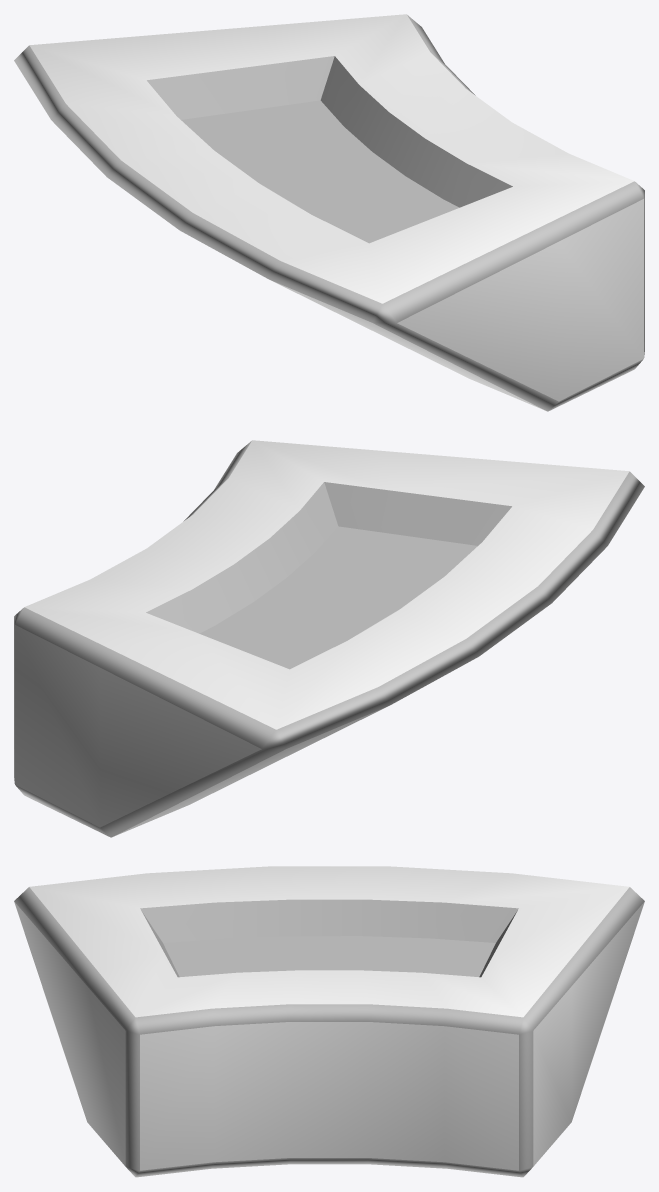
The model's file is Brick_LOD2_20 cutted.fbx.
The picture shows the model from 3 angles, top to bottom: view 1: azimuth 30°, elevation 25°; view 2: azimuth 150°, elevation 25°; view 3: azimuth 270°, elevation 25°; orthographic projection. The views are drawn at different scales.
Parts seen in each view (by area): view 1: Brick_LOD2_20_Deg; view 2: Brick_LOD2_20_Deg; view 3: Brick_LOD2_20_Deg.
Boxes of the visible parts, x1=… form: Brick_LOD2_20_Deg: x1=14, y1=14, x2=644, y2=411; Brick_LOD2_20_Deg: x1=14, y1=440, x2=644, y2=837; Brick_LOD2_20_Deg: x1=14, y1=866, x2=644, y2=1177.
Size of the model in its own units: 1.08 by 0.5 by 1.79.
1 material, 1 textured.
